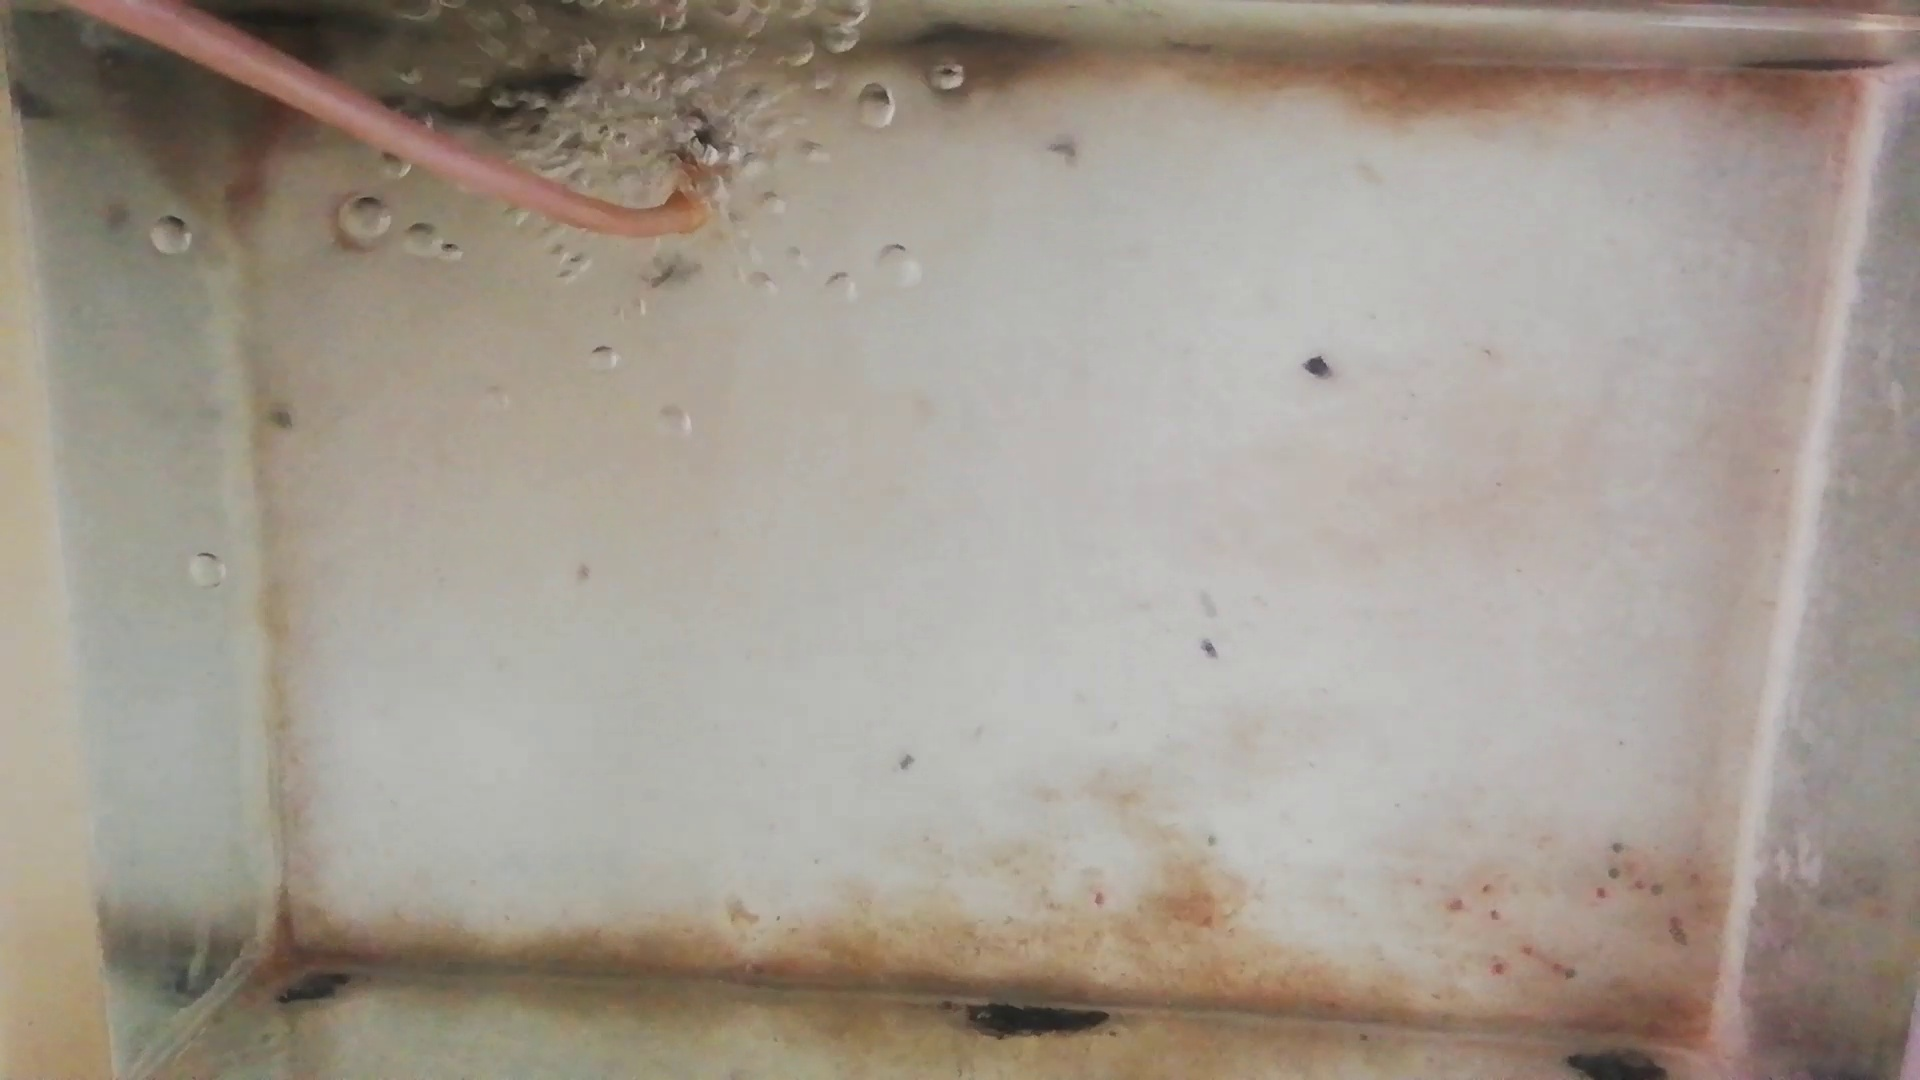fish: (402, 71, 583, 132), (229, 79, 295, 216)
